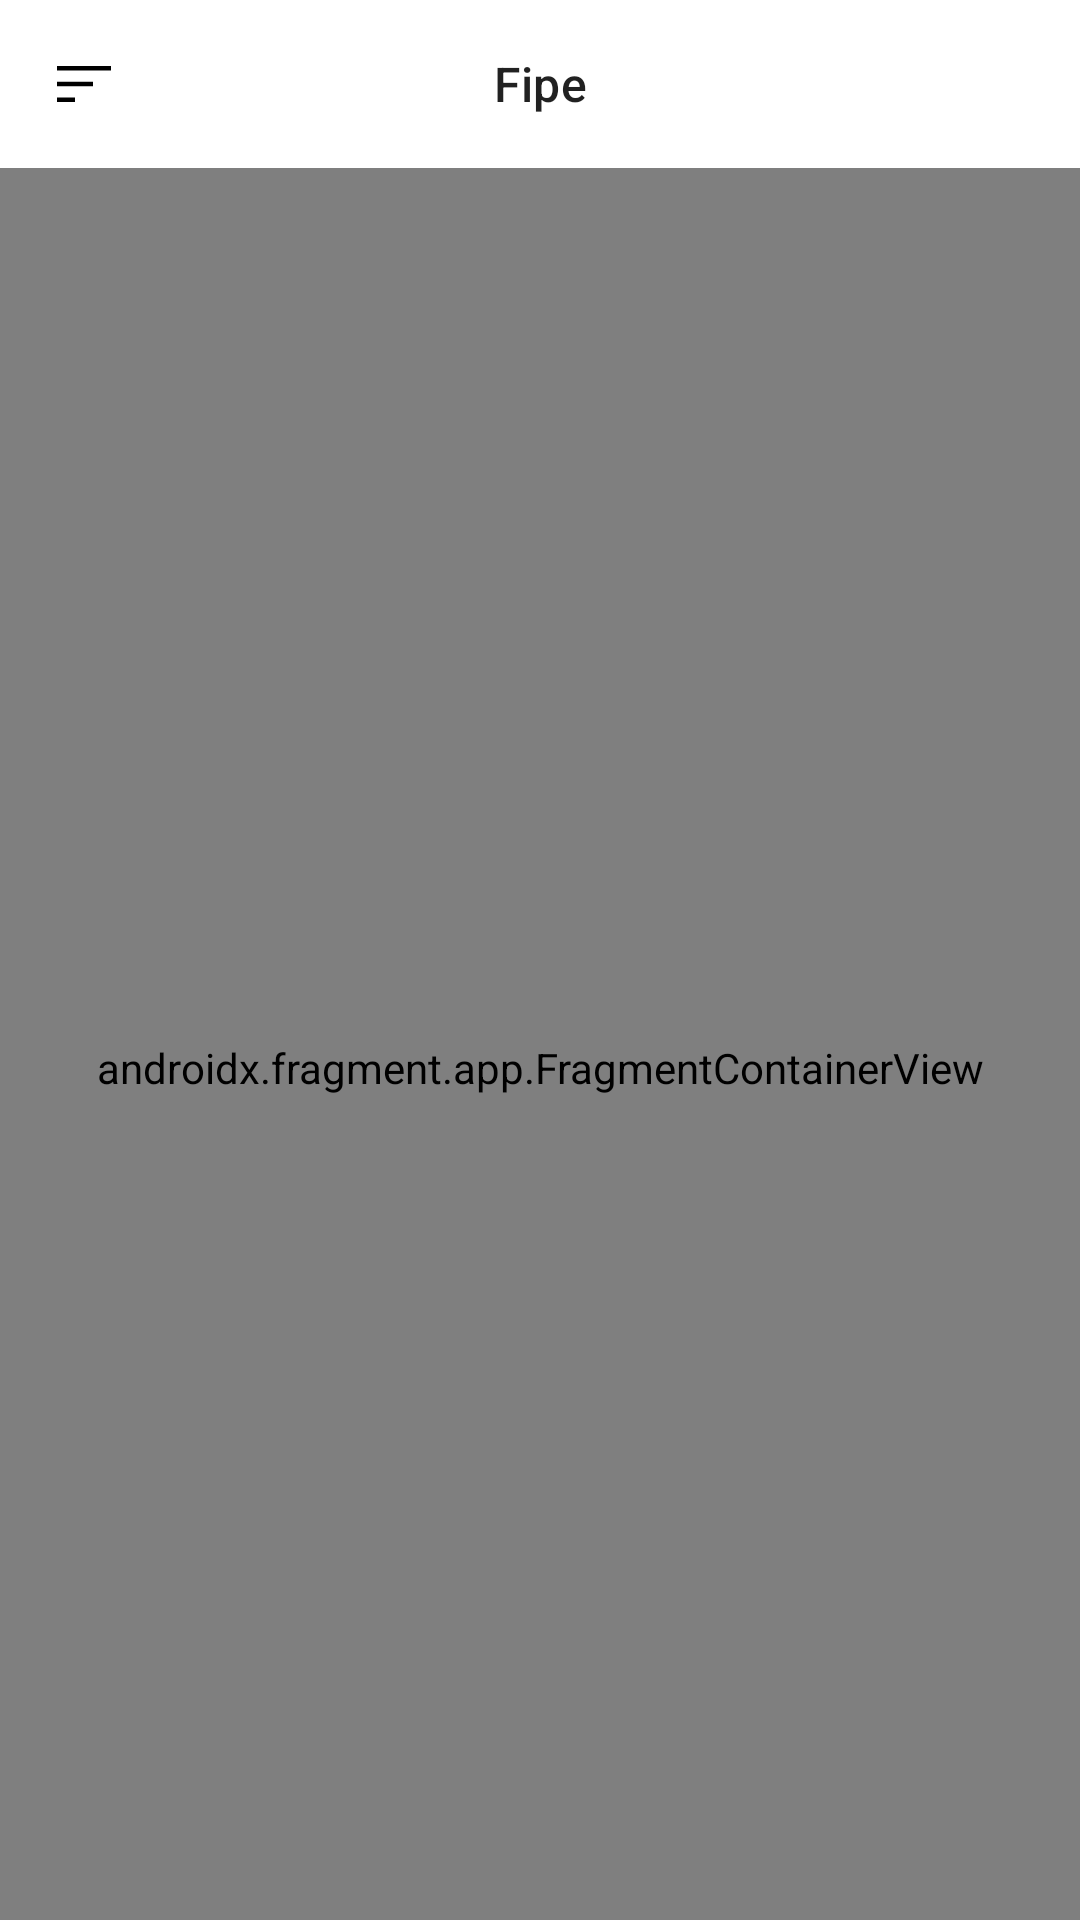

Icons on this 1080 × 1920 Android screen, each with its box as [x1, y1, x2, y2]:
Botão para abrir menu: [57, 66, 111, 102]
